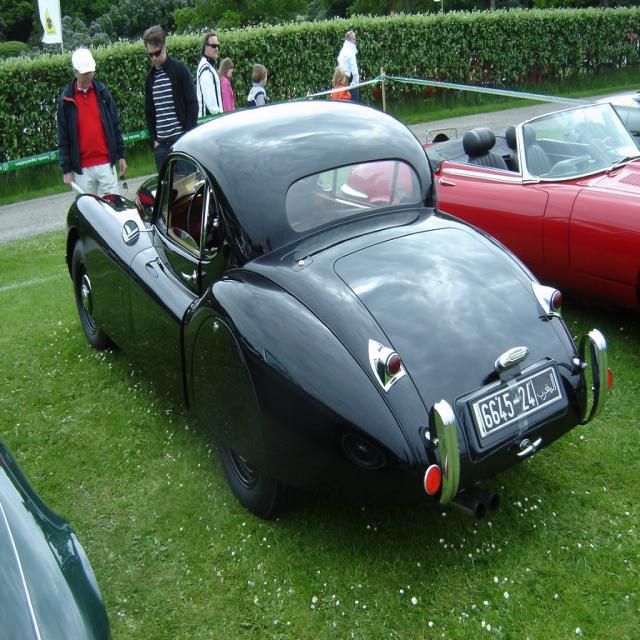car: (64, 99, 607, 522)
